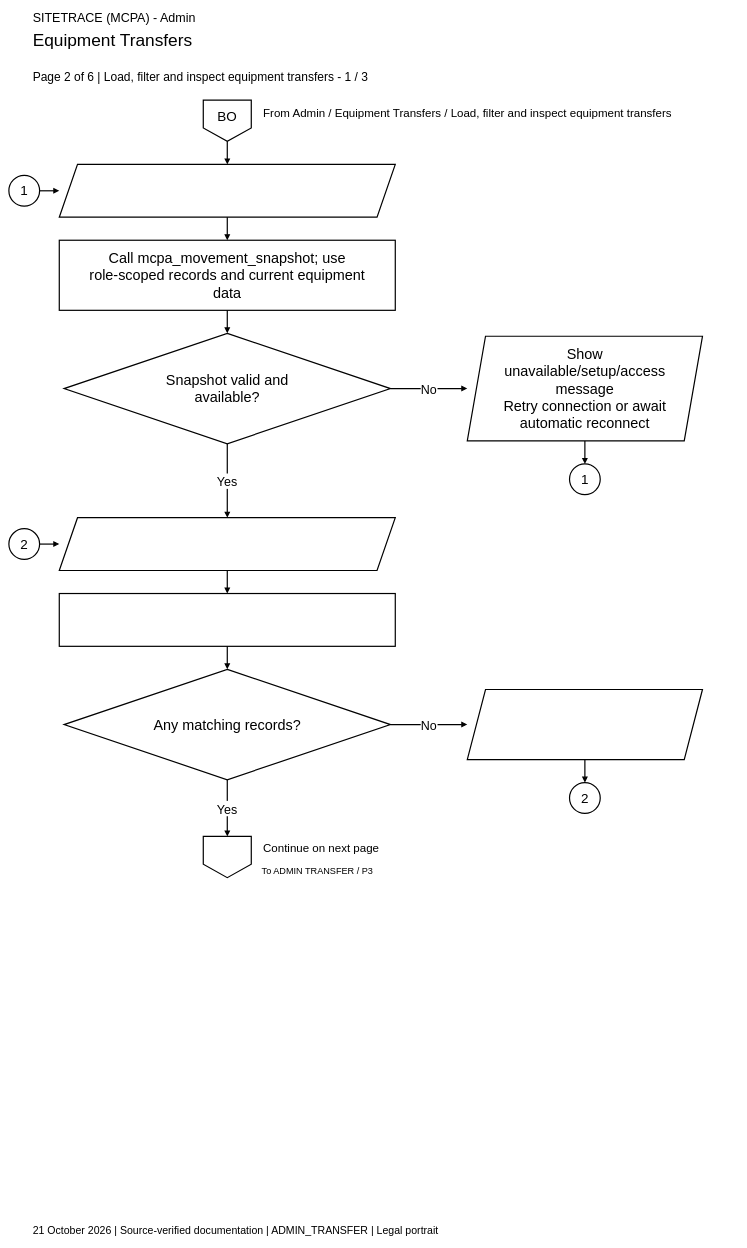
The diagram is 747 pixels wide and 1248 high, and some of its shapes have lost their labels. Here are the shapes that lost their labels. From the top down, the box of each, then its label:
(58, 164, 396, 218): Open equipment transfers; load authenticated movement records
(58, 517, 396, 571): Enter search text and/or choose a status filter
(58, 593, 396, 647): Match ID, tool, person or project; sort saved records; calculate summary
(466, 689, 703, 760): Show empty/no-match state Change search or status filters
(202, 836, 252, 878): BR
